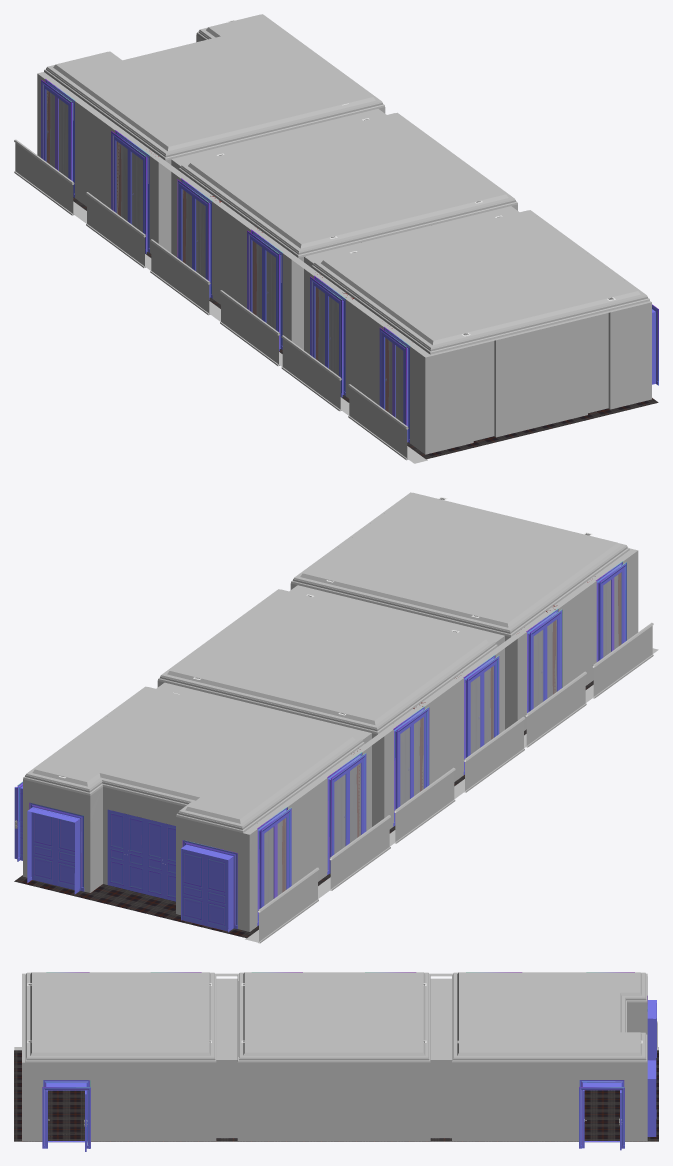
Rendered from SLL_SalonLulli.fbx.
The picture shows the model from 3 angles, top to bottom: view 1: azimuth 30°, elevation 25°; view 2: azimuth 150°, elevation 25°; view 3: azimuth 270°, elevation 25°; orthographic projection. The views are drawn at different scales.
Visible parts, largest first — view 1: polySurface71, polySurface72, polySurface75, polySurface24; view 2: polySurface71, polySurface75, polySurface72, polySurface24; view 3: polySurface71, polySurface72, polySurface380, polySurface75.
Part boxes in pixels (x1,y1,x2,y2): polySurface71: (14, 14, 658, 463); polySurface72: (44, 14, 649, 354); polySurface75: (41, 79, 410, 442); polySurface24: (46, 90, 403, 422); polySurface71: (14, 492, 658, 943); polySurface75: (27, 561, 626, 932); polySurface72: (23, 492, 629, 832); polySurface24: (264, 572, 621, 905); polySurface71: (14, 972, 658, 1141); polySurface72: (25, 972, 647, 1062); polySurface380: (42, 1080, 624, 1151); polySurface75: (46, 972, 656, 1142).
Size of the model in its own units: 848 by 323 by 2158.
